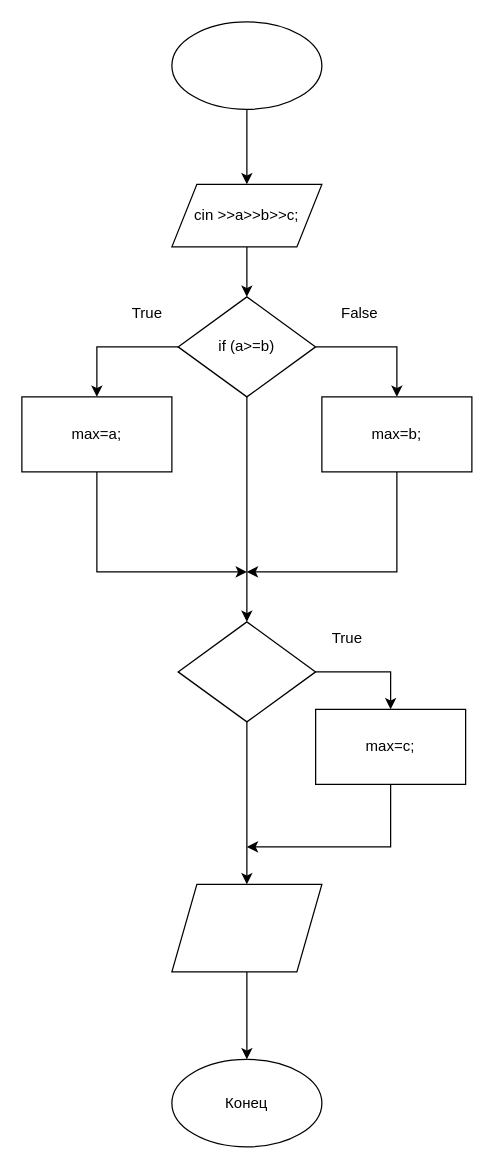
The diagram is 494 pixels wide and 1169 high, and some of its shapes have lost their labels. The centre of each missing label's shape, as x and y in pixels:
cout<<max<<endl;: (246,927)
if (c>max): (246,671)
Начало: (246,65)
